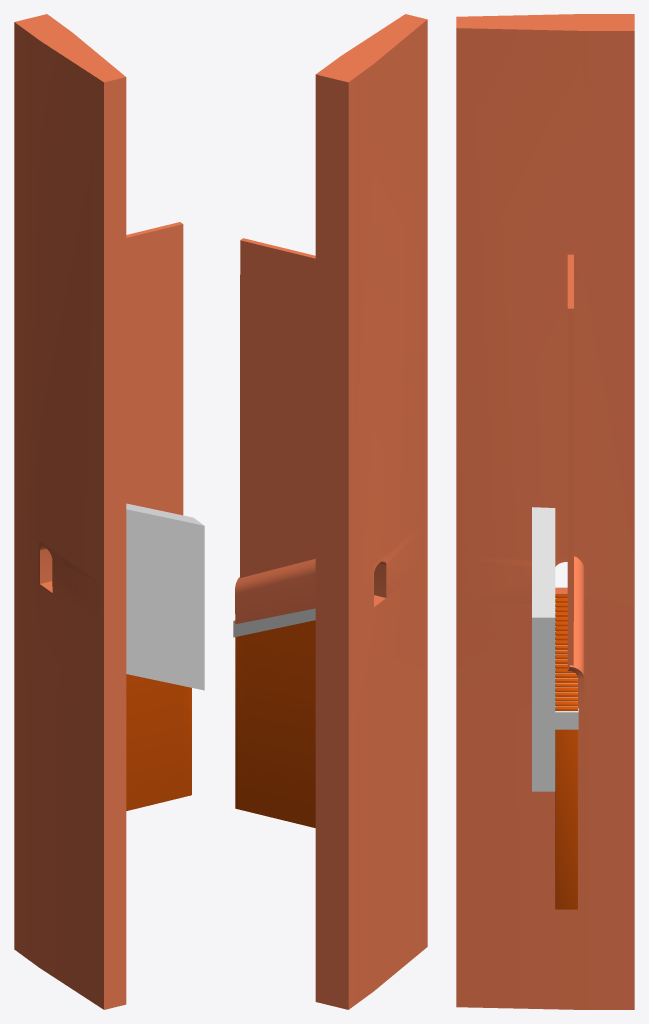
Rendered from stairs_SHORT.fbx.
The picture shows the model from 3 angles, left to right: view 1: azimuth 30°, elevation 25°; view 2: azimuth 150°, elevation 25°; view 3: azimuth 270°, elevation 25°; orthographic projection. The views are drawn at different scales.
Visible parts, largest first — view 1: ARCH, wall_2.004, BLOCKER, rampbounds_1.003; view 2: ARCH, wall_2.004, rampbounds_1.003, stairs_1.001; view 3: ARCH, BLOCKER, rampbounds_1.003, wall_2.004, stairs_1.001.
Boxes of the visible parts, x1,y1,x2,y2 form: ARCH: (14, 14, 126, 1009); wall_2.004: (126, 222, 183, 515); BLOCKER: (126, 503, 204, 690); rampbounds_1.003: (126, 674, 191, 810); ARCH: (315, 14, 427, 1009); wall_2.004: (235, 238, 315, 624); rampbounds_1.003: (235, 620, 315, 827); stairs_1.001: (233, 608, 315, 637); ARCH: (456, 14, 634, 1009); BLOCKER: (532, 507, 555, 791); rampbounds_1.003: (555, 594, 577, 909); wall_2.004: (567, 254, 584, 710); stairs_1.001: (555, 598, 578, 729).
Bounding box in the file's own units: 301 × 1882 × 310.
